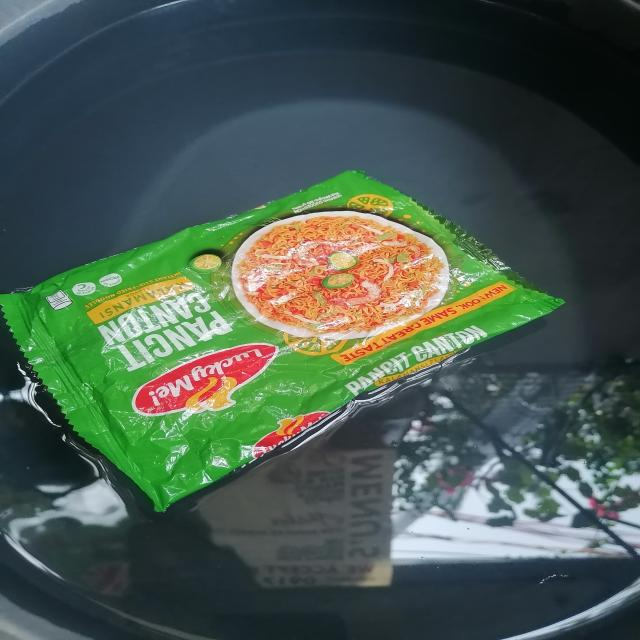Plastic Wrapper: (0, 152, 585, 523)
